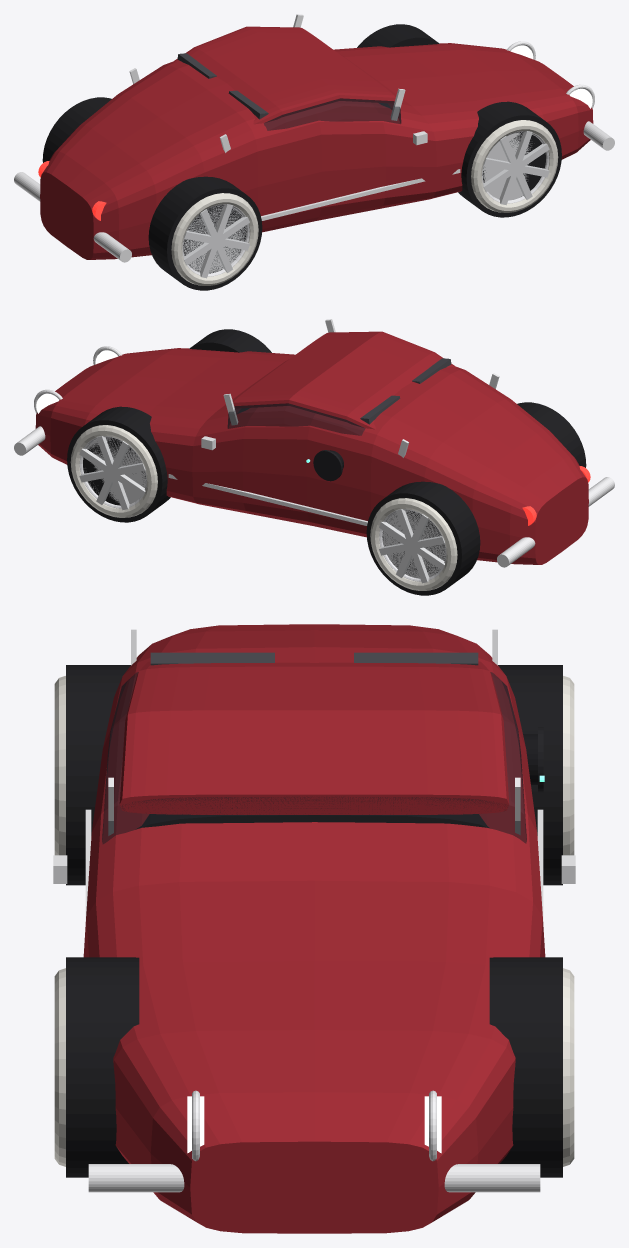
Rendered from car_retro.glb.
3 views of the same model, one above another, from view 1: azimuth 30°, elevation 25°; view 2: azimuth 150°, elevation 25°; view 3: azimuth 270°, elevation 25° (orthographic). The views are drawn at different scales.
Parts seen in each view (by area): view 1: CarBody, RoofCap, Tire_3, Tire_1, WW_3, WW_1, Glass, Dish_3, Tire_2, Tire_0, Dish_1, BumperR (+4 smaller); view 2: CarBody, RoofCap, Tire_2, Tire_0, WW_2, WW_0, Glass, Dish_2, Tire_3, Tire_1, Dish_0, BumperR (+5 smaller); view 3: CarBody, RoofCap, Tire_1, Tire_0, Tire_3, Glass, Tire_2, BumperF, CabinRETRO, WW_0, WW_1, WW_2 (+3 smaller).
Boxes of the visible parts, <box> form: CarBody: <box>40,43,593,259</box>; RoofCap: <box>171,26,395,124</box>; Tire_3: <box>148,176,262,290</box>; Tire_1: <box>458,101,561,217</box>; WW_3: <box>171,193,258,285</box>; WW_1: <box>471,120,558,212</box>; Glass: <box>264,98,401,130</box>; Dish_3: <box>183,205,246,273</box>; Tire_2: <box>42,97,111,162</box>; Tire_0: <box>357,24,439,47</box>; Dish_1: <box>483,132,532,200</box>; BumperR: <box>14,172,131,262</box>; CarBody: <box>35,348,588,564</box>; RoofCap: <box>233,331,457,429</box>; Tire_2: <box>366,481,480,595</box>; Tire_0: <box>67,406,170,522</box>; WW_2: <box>370,498,457,590</box>; WW_0: <box>70,425,157,517</box>; Glass: <box>227,403,365,435</box>; Dish_2: <box>382,510,445,578</box>; Tire_3: <box>517,402,586,467</box>; Tire_1: <box>189,329,271,352</box>; Dish_0: <box>84,437,146,504</box>; BumperR: <box>497,477,614,567</box>; CarBody: <box>83,624,545,1233</box>; RoofCap: <box>119,661,509,814</box>; Tire_1: <box>66,957,139,1177</box>; Tire_0: <box>489,957,562,1177</box>; Tire_3: <box>66,665,130,885</box>; Glass: <box>102,672,526,843</box>; Tire_2: <box>498,665,562,885</box>; BumperF: <box>88,1164,540,1192</box>; CabinRETRO: <box>135,814,489,829</box>; WW_0: <box>563,968,574,1166</box>; WW_1: <box>54,968,65,1166</box>; WW_2: <box>563,676,574,855</box>.
Size of the model in its own units: 4.08 by 1.18 by 1.85.
